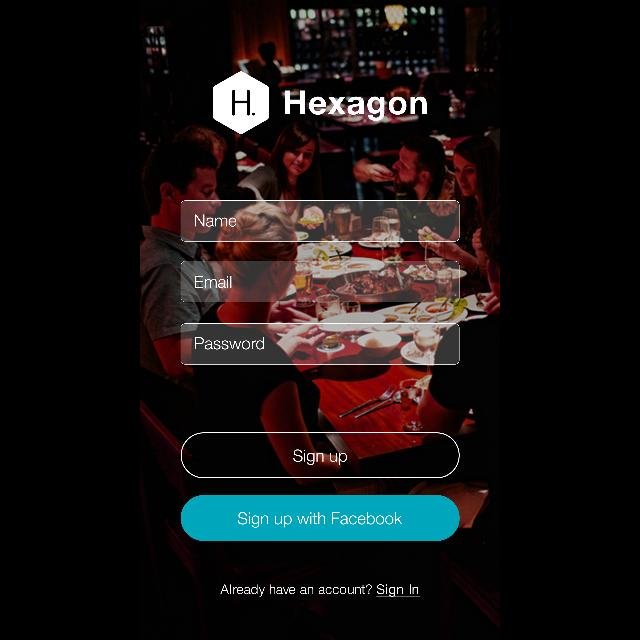backgroundimage: (140, 1, 500, 640)
image: (213, 72, 269, 134)
input: (180, 200, 460, 242), (180, 324, 460, 364), (180, 262, 460, 302)
text: (285, 90, 427, 122), (220, 584, 420, 598), (195, 338, 265, 350), (196, 215, 237, 228), (194, 276, 232, 288)
textbutton: (180, 495, 460, 541), (180, 433, 460, 479)
